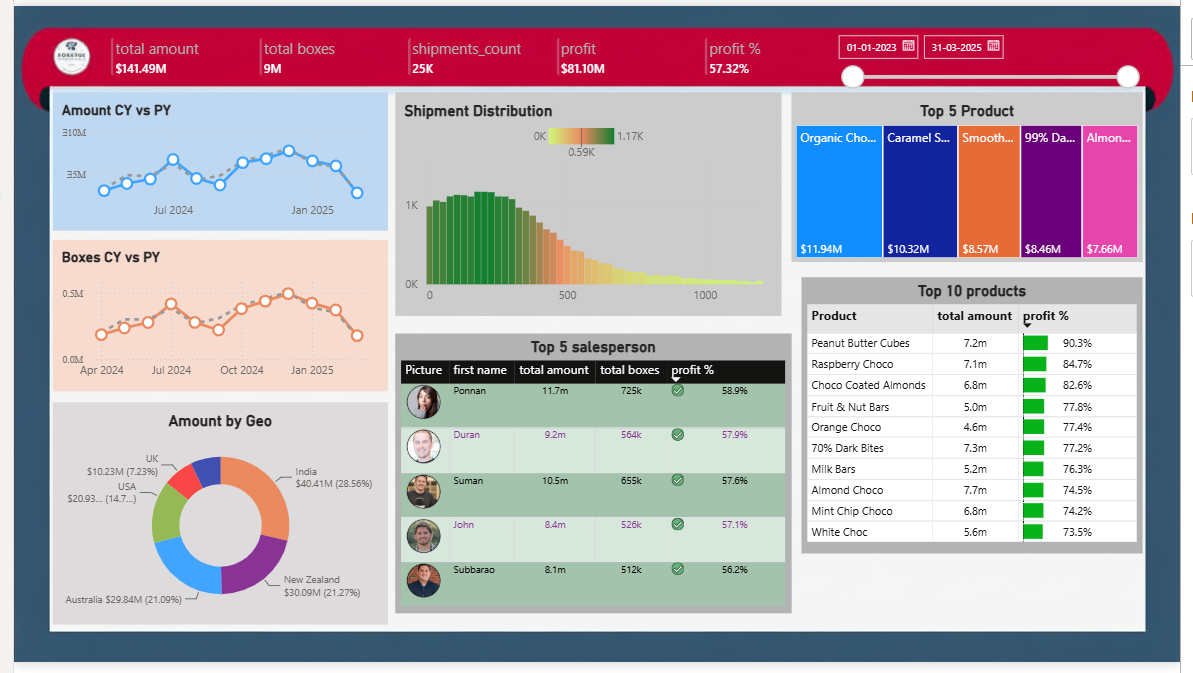

The page's visual inventory and layout, read from the dashboard file:
{"tool":"powerbi","page":{"name":"final report","canvas":[1280,720],"ordinal":7},"visuals":[{"type":"lineChart","title":"Amount CY vs PY","fields":{"Y":["shipments.total amount","shipments.LastYr_Ttl_Amt"],"Category":["calendar.Start of Month"]},"box":[42.5,94.7,367.8,152.3],"z":0},{"type":"lineChart","title":"Boxes CY vs PY","fields":{"Category":["calendar.Start of Month"],"Y":["shipments.total boxes","shipments.total boxes(last year)"]},"box":[42.5,256.6,367.8,166],"z":1000},{"type":"donutChart","title":"Amount by Geo","fields":{"Category":["locations.Geo"],"Y":["shipments.total amount"]},"box":[42.5,435,367.8,244.3],"z":2000},{"type":"clusteredColumnChart","title":"Shipment Distribution","fields":{"Y":["shipments.shipments_count"],"Category":["shipments.Boxes (bins)"]},"box":[418.5,94.7,424,245.6],"z":3000},{"type":"tableEx","title":"Top 5 salesperson","fields":{"Values":["people.Picture","people.first name","shipments.total amount","shipments.total boxes","shipments.profit %"]},"box":[418.5,359.5,435,307.4],"z":4000},{"type":"treemap","title":"Top 5 Product","fields":{"Group":["products.Product"],"Values":["shipments.total amount"]},"box":[853.5,94.7,385.6,186.6],"z":5000},{"type":"tableEx","title":"Top 10 products","fields":{"Values":["products.Product","shipments.total amount","shipments.profit %"]},"box":[864.5,297.8,374.6,303.3],"z":6000},{"type":"cardVisual","fields":{"Data":["shipments.total amount","shipments.total boxes","shipments.shipments_count","shipments.profit","shipments.profit %"]},"box":[89.2,17.8,842.5,76.8],"z":7000},{"type":"slicer","fields":{"Values":["calendar.cal_date"]},"box":[897.4,27.4,341.7,67.2],"z":8000}]}

Visuals, with their boxes in screenshot pixels (x1, y1, x2, y2), scaled from the page's 1280x720 canvas onto the 1193x673 screenshot:
"Amount CY vs PY" lineChart: left=40, top=89, right=382, bottom=231
"Boxes CY vs PY" lineChart: left=40, top=240, right=382, bottom=395
"Amount by Geo" donutChart: left=40, top=407, right=382, bottom=635
"Shipment Distribution" clusteredColumnChart: left=390, top=89, right=785, bottom=318
"Top 5 salesperson" tableEx: left=390, top=336, right=795, bottom=623
"Top 5 Product" treemap: left=795, top=89, right=1155, bottom=263
"Top 10 products" tableEx: left=806, top=278, right=1155, bottom=562
cardVisual - shipments.total amount x shipments.total boxes: left=83, top=17, right=868, bottom=88
slicer - calendar.cal_date: left=836, top=26, right=1155, bottom=88
